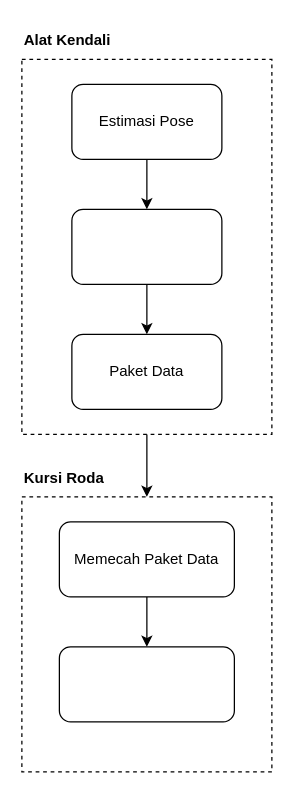
Some shapes in this 294 by 794 pixel diagram are drawn without their labels. Each missing label, with the box of its shape:
Klasifikasi Pose: (71, 208, 222, 284)
Kontrol Navigasi: (58, 646, 234, 722)
